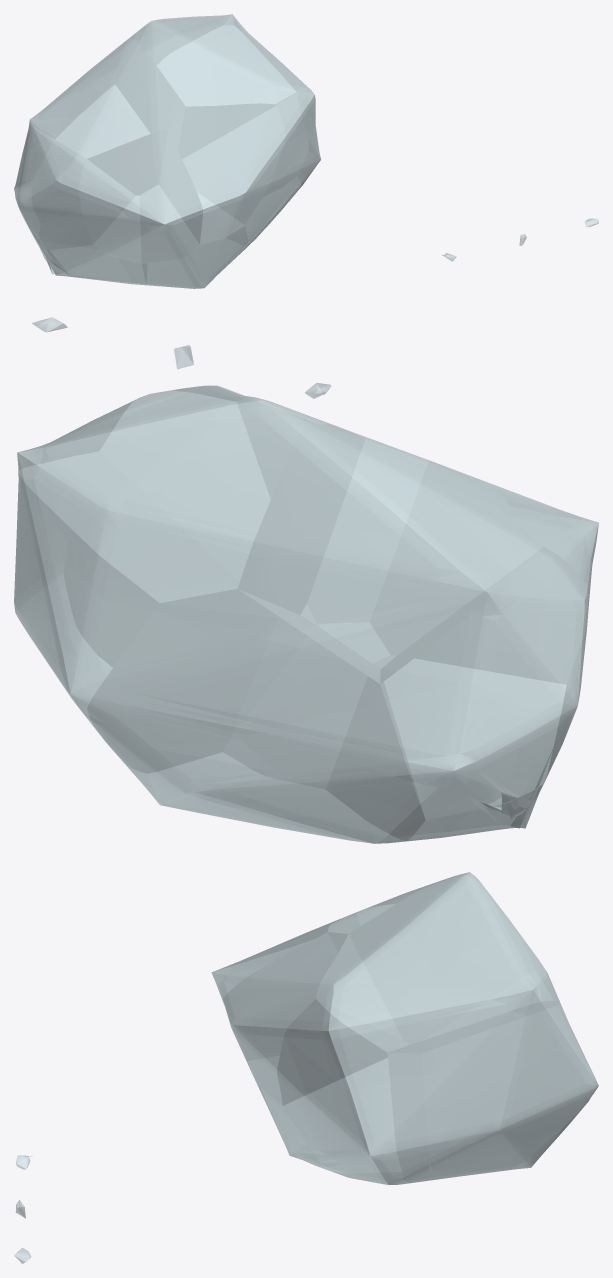
File: block.glb
3 renders of one model, top to bottom at view 1: azimuth 30°, elevation 25°; view 2: azimuth 150°, elevation 25°; view 3: azimuth 270°, elevation 25°, orthographic. The views are drawn at different scales.
Parts seen in each view (by area): view 1: IceBlock, IceCell00, IceCell05, IceCell04, IceCell01, IceCell06, IceCell08, IceCell07, IceCell03; view 2: IceBlock, IceCell09, IceCell01, IceCell04, IceCell06, IceCell02, IceCell00, IceCell03; view 3: IceBlock, IceCell02, IceCell04, IceCell08, IceCell05, IceCell00, IceCell07, IceCell01.
Part boxes in pixels (x1,y1,x2,y2): IceBlock: (14, 14, 320, 288); IceCell00: (78, 129, 202, 263); IceCell05: (168, 103, 285, 244); IceCell04: (130, 14, 306, 106); IceCell01: (29, 37, 185, 158); IceCell06: (14, 124, 92, 250); IceCell08: (245, 87, 320, 245); IceCell07: (142, 226, 248, 288); IceCell03: (40, 245, 145, 285); IceBlock: (14, 385, 598, 843); IceCell09: (87, 589, 425, 843); IceCell01: (238, 424, 542, 683); IceCell04: (17, 385, 333, 602); IceCell06: (380, 547, 588, 819); IceCell02: (14, 471, 159, 740); IceCell00: (446, 467, 598, 609); IceCell03: (407, 784, 543, 841); IceBlock: (211, 872, 598, 1184); IceCell02: (388, 1001, 598, 1182); IceCell04: (315, 872, 559, 1052); IceCell08: (277, 999, 407, 1184); IceCell05: (223, 932, 348, 1105); IceCell00: (212, 913, 354, 1004); IceCell07: (256, 1082, 329, 1170); IceCell01: (327, 878, 448, 933).
Bounding box in the file's own units: 24.56 × 11.72 × 21.16.
